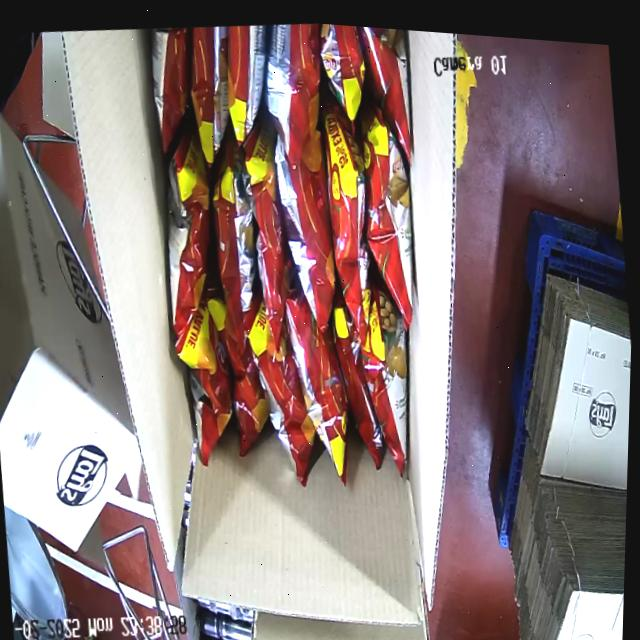MASALA: (134, 11, 448, 519)
